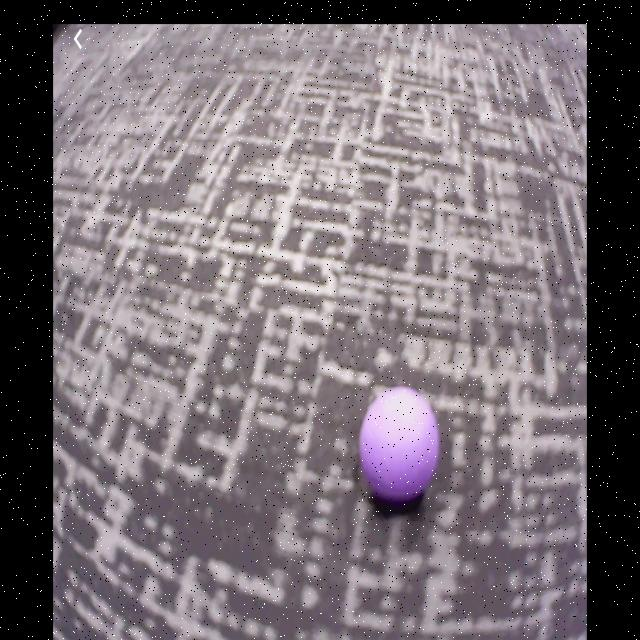ball: (360, 389, 440, 502)
